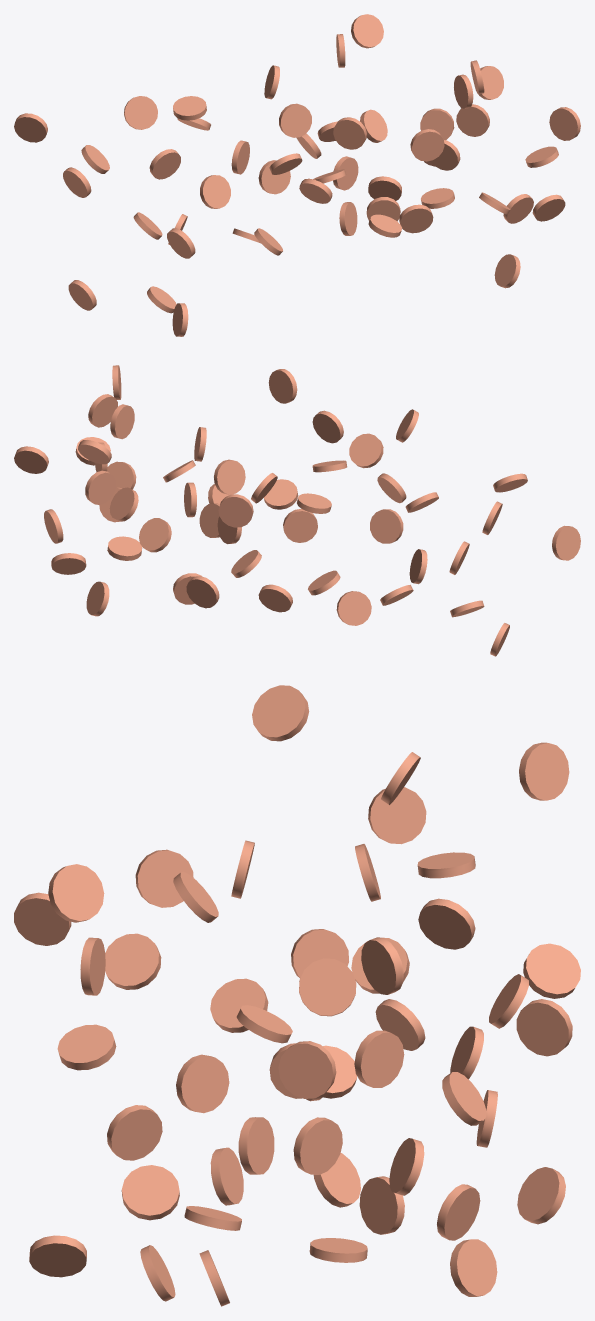
Rendered from coins.glb.
The picture shows the model from 3 angles, top to bottom: view 1: azimuth 30°, elevation 25°; view 2: azimuth 150°, elevation 25°; view 3: azimuth 270°, elevation 25°; orthographic projection. The views are drawn at different scales.
Visible parts, largest first — view 1: Cylinder 45; view 2: Cylinder 45; view 3: Cylinder 45.
Boxes of the visible parts, x1,y1,x2,y2 form: Cylinder 45: (14,14,580,336); Cylinder 45: (14,365,580,656); Cylinder 45: (14,685,580,1306).
Bounding box in the file's own units: 0.9356 × 0.3649 × 0.5866.
